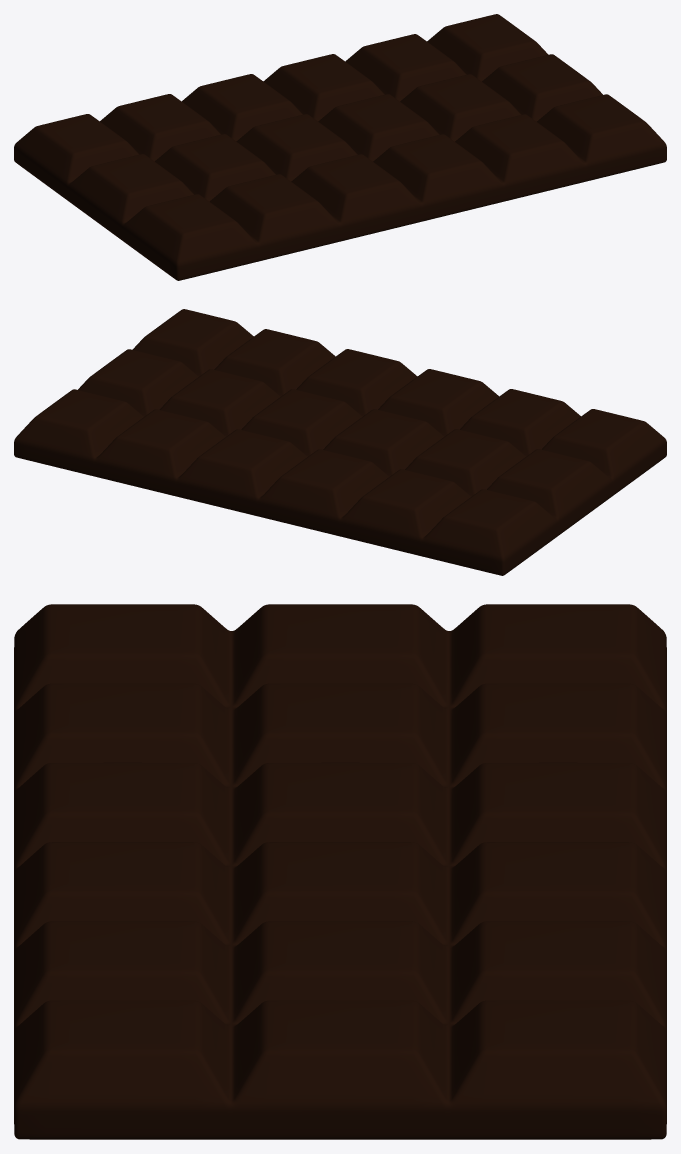
File: chocolate_beta.fbx
3 renders of one model, top to bottom at view 1: azimuth 30°, elevation 25°; view 2: azimuth 150°, elevation 25°; view 3: azimuth 270°, elevation 25°, orthographic. The views are drawn at different scales.
Parts seen in each view (by area): view 1: Box002; view 2: Box002; view 3: Box002.
Boxes of the visible parts, x1,y1,x2,y2 form: Box002: [14, 14, 666, 280]; Box002: [14, 309, 666, 575]; Box002: [14, 604, 666, 1139].
Bounding box in the file's own units: 48.13 × 3.65 × 27.94.
